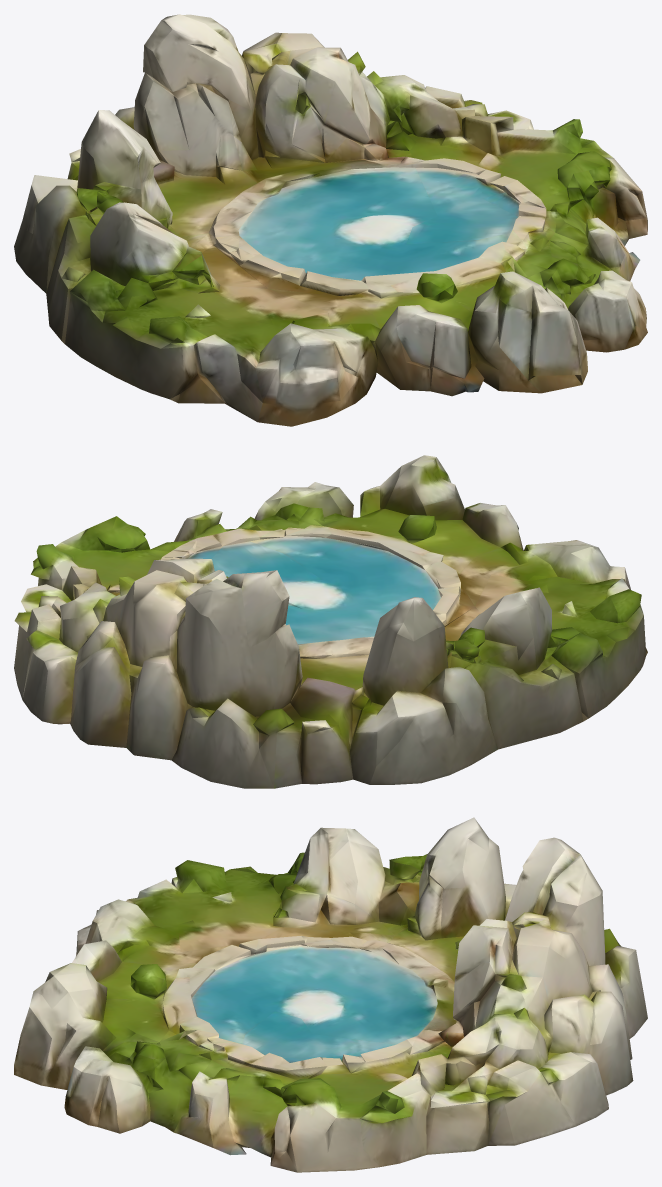
Rendered from m2FloatingArenaBg.glb.
3 renders of one model, top to bottom at view 1: azimuth 30°, elevation 25°; view 2: azimuth 150°, elevation 25°; view 3: azimuth 270°, elevation 25°, orthographic. The views are drawn at different scales.
Visible parts, largest first — view 1: model; view 2: model; view 3: model.
Boxes of the visible parts, x1,y1,x2,y2 form: model: (14,14,647,426); model: (14,455,647,788); model: (14,817,647,1172).
Bounding box in the file's own units: 1.85 × 0.6005 × 1.9.
1 material, 1 textured.
